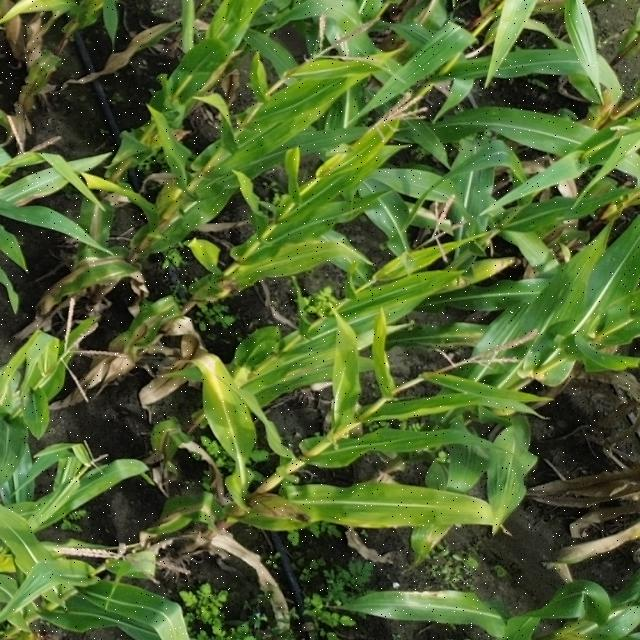northern-leaf-blight: (182, 355, 259, 489), (24, 247, 126, 318)
southern-leaf-blight: (463, 106, 637, 178), (537, 235, 631, 308), (242, 241, 356, 282)
